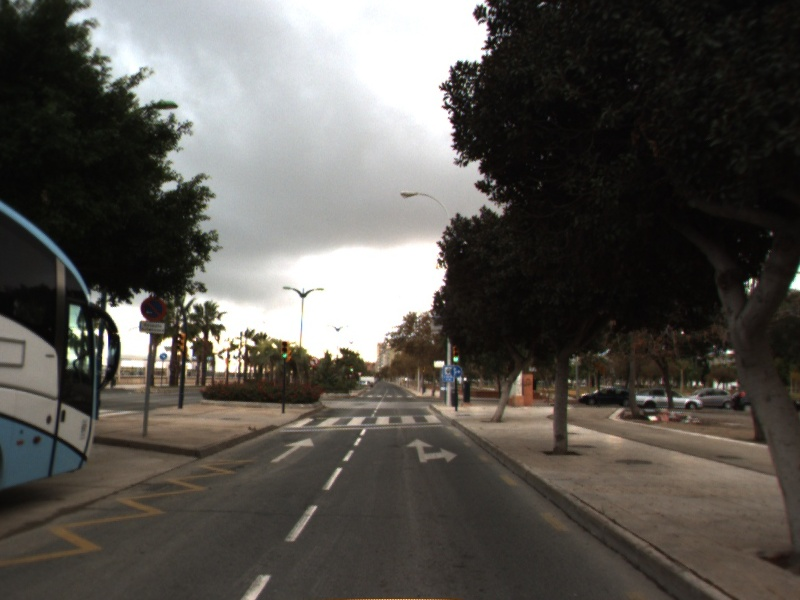STRAIGHT: (268, 436, 317, 465)
STRAIGHT_RIGHT: (403, 436, 461, 465)
